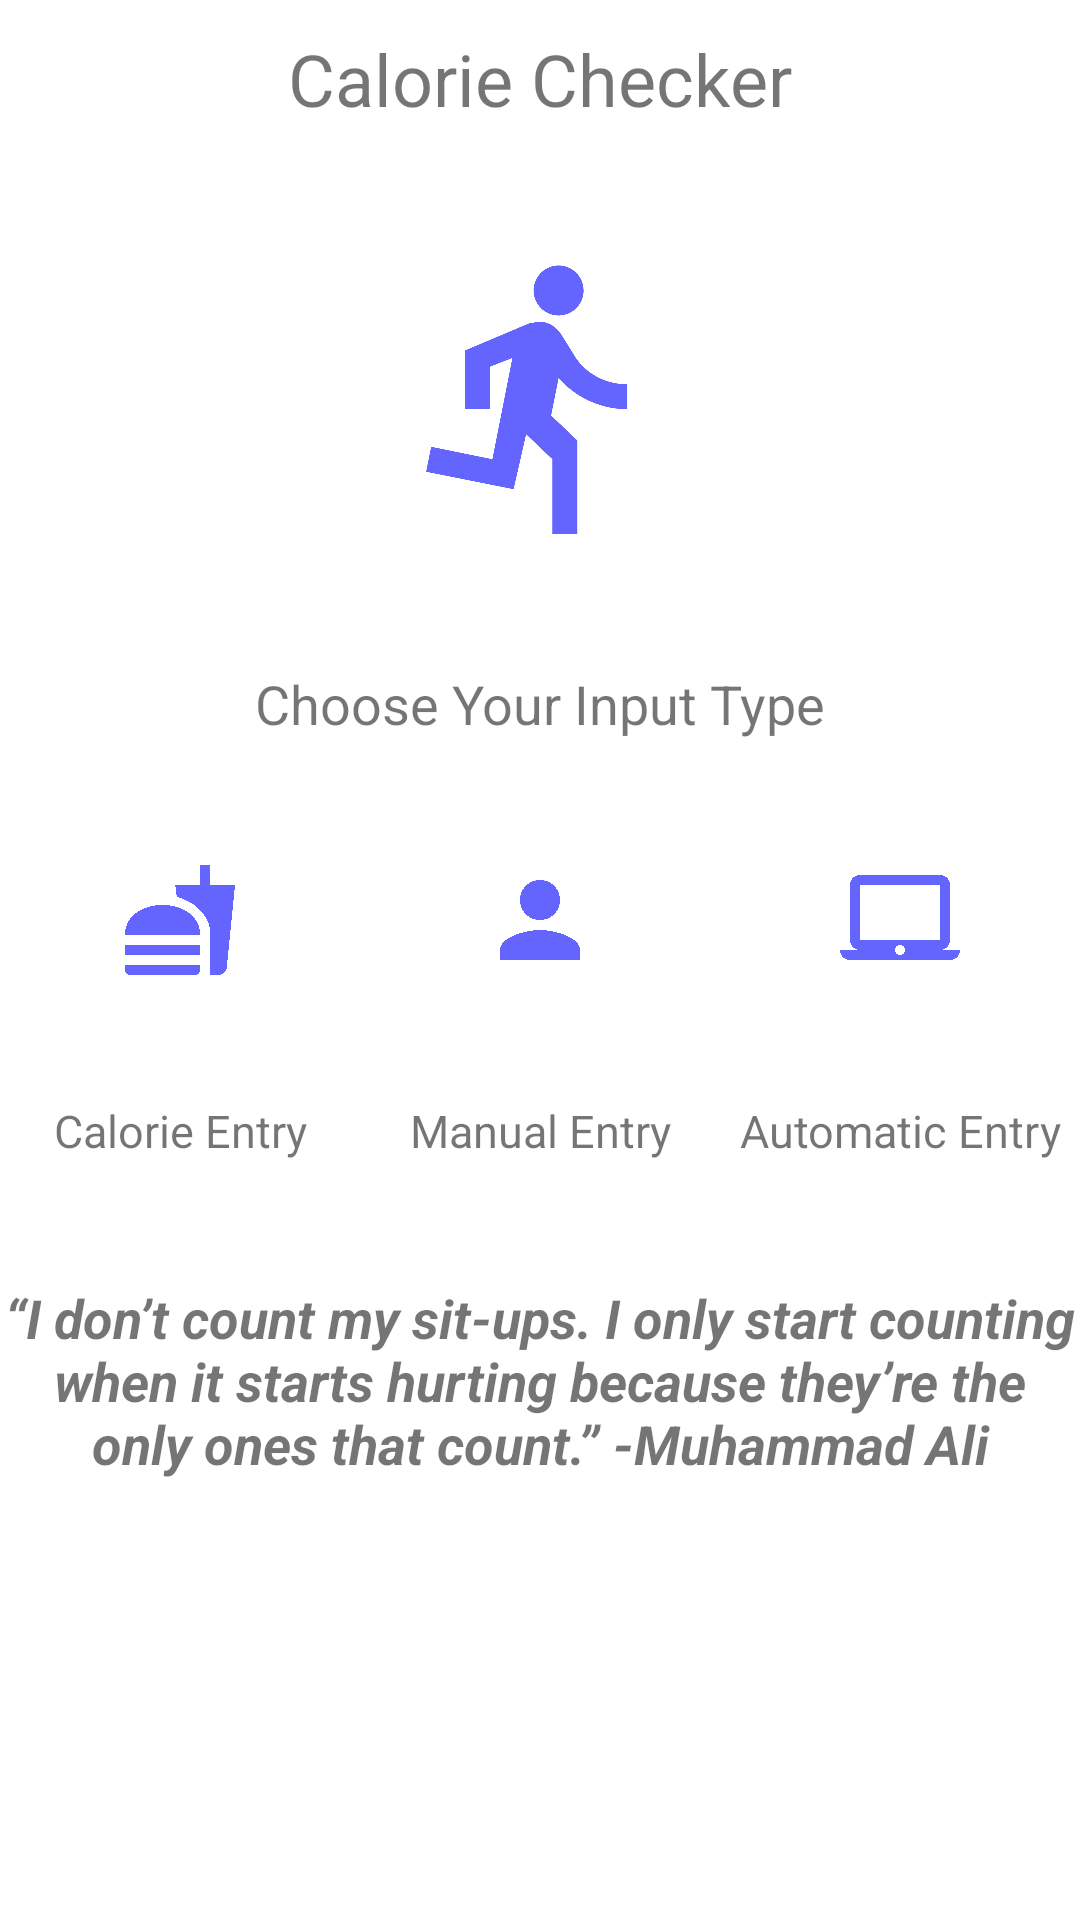

Named icons in this screenshot (1080*1920) and their centers, point (x, y):
directions run: point (526, 399)
fast food: point (180, 920)
laptop mac: point (900, 917)
person: point (540, 920)
